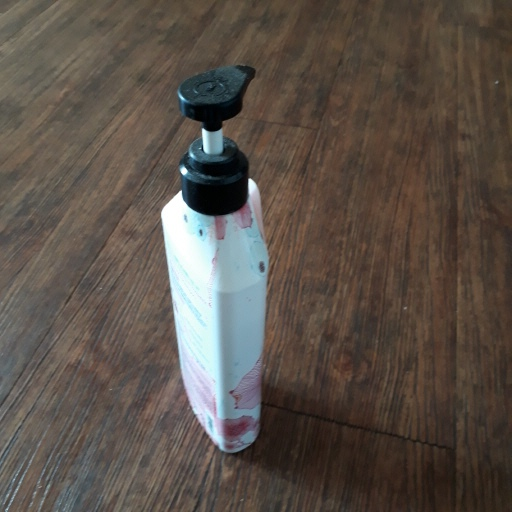Plastic_3: (154, 63, 276, 454)
